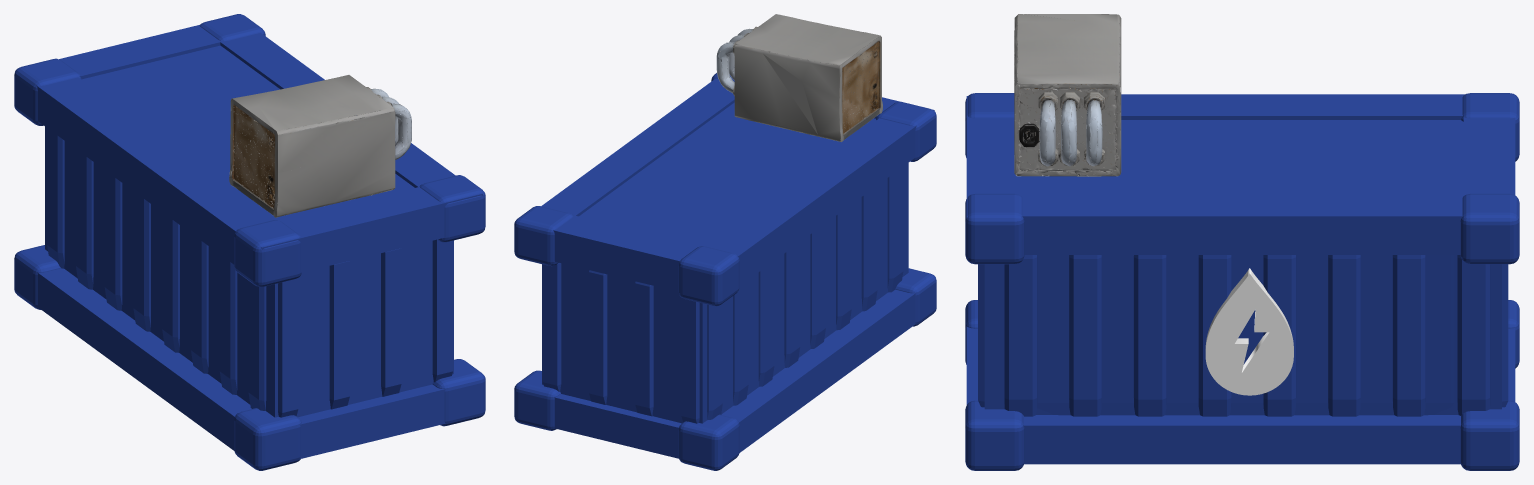
Rendered from container.glb.
3 renders of one model, left to right at view 1: azimuth 30°, elevation 25°; view 2: azimuth 150°, elevation 25°; view 3: azimuth 270°, elevation 25°, orthographic. The views are drawn at different scales.
Parts seen in each view (by area): view 1: Container Base, world.001; view 2: Container Base, world.001; view 3: Container Base, world.001, Curve.
Boxes of the visible parts, x1,y1,x2,y2 form: Container Base: (14,14,485,470); world.001: (229,75,411,217); Container Base: (514,73,936,470); world.001: (716,14,882,141); Container Base: (965,93,1519,470); world.001: (1014,14,1121,176); Curve: (1205,268,1293,395).
Size of the model in its own units: 1.16 by 1.52 by 2.14.
Materials: 3 (1 with a texture image).
